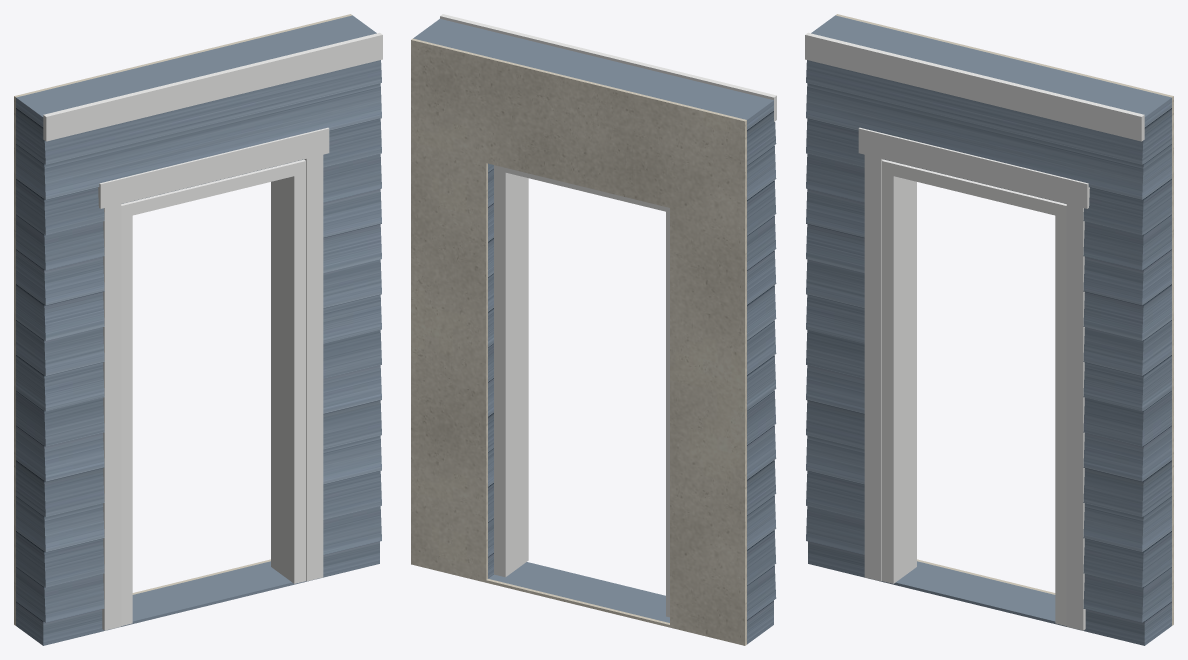
The model's file is wall_siding_door.glb.
3 renders of one model, left to right at view 1: azimuth 30°, elevation 25°; view 2: azimuth 150°, elevation 25°; view 3: azimuth 330°, elevation 25°, orthographic.
Parts seen in each view (by area): view 1: wall_siding_door_siding, wall_siding_door_trim, wall_siding_door_frame, wall_siding_door_plaster; view 2: wall_siding_door_plaster, wall_siding_door_siding, wall_siding_door_frame, wall_siding_door_trim; view 3: wall_siding_door_siding, wall_siding_door_trim, wall_siding_door_frame, wall_siding_door_plaster.
Part boxes in pixels (x1,y1,x2,y2): wall_siding_door_siding: (16,15,381,645); wall_siding_door_trim: (43,32,382,630); wall_siding_door_frame: (121,159,305,625); wall_siding_door_plaster: (14,14,352,625); wall_siding_door_plaster: (411,38,746,645); wall_siding_door_siding: (413,19,776,644); wall_siding_door_frame: (494,165,669,617); wall_siding_door_trim: (440,14,776,121); wall_siding_door_siding: (806,15,1171,645); wall_siding_door_trim: (805,32,1144,630); wall_siding_door_frame: (882,159,1066,625); wall_siding_door_plaster: (835,14,1173,625).
Size of the model in its own units: 2 by 3.02 by 0.335.
Materials: 4 (2 with a texture image).
